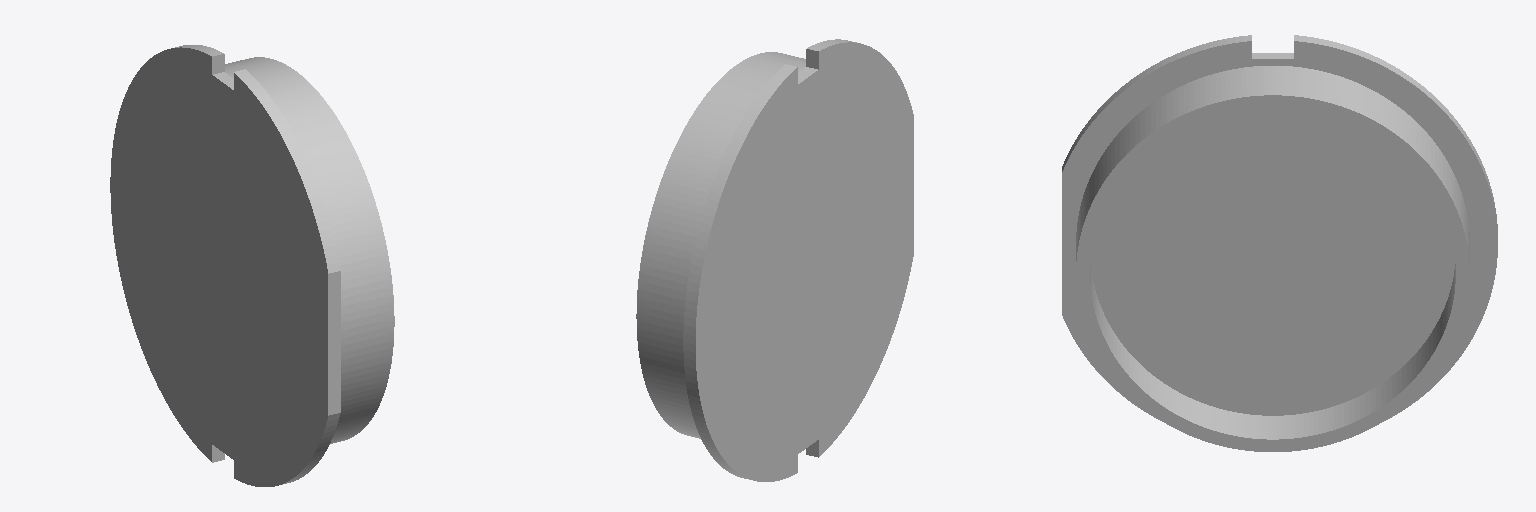
The model's file is cover_BOTTOM.obj.
3 views of the same model, side by side, from view 1: azimuth 30°, elevation 25°; view 2: azimuth 150°, elevation 25°; view 3: azimuth 270°, elevation 25° (orthographic).
Visible parts, largest first — view 1: cover_BOTTOM; view 2: cover_BOTTOM; view 3: cover_BOTTOM.
Boxes of the visible parts, <box> form: cover_BOTTOM: <box>110,45,394,486</box>; cover_BOTTOM: <box>636,39,913,481</box>; cover_BOTTOM: <box>1062,35,1497,451</box>.
Size of the model in its own units: 6 by 31.86 by 31.